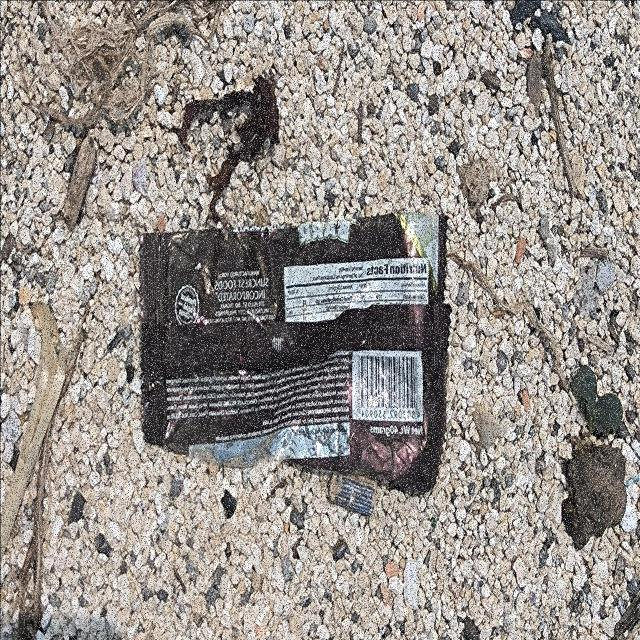plastic_waste: (137, 210, 450, 503)
